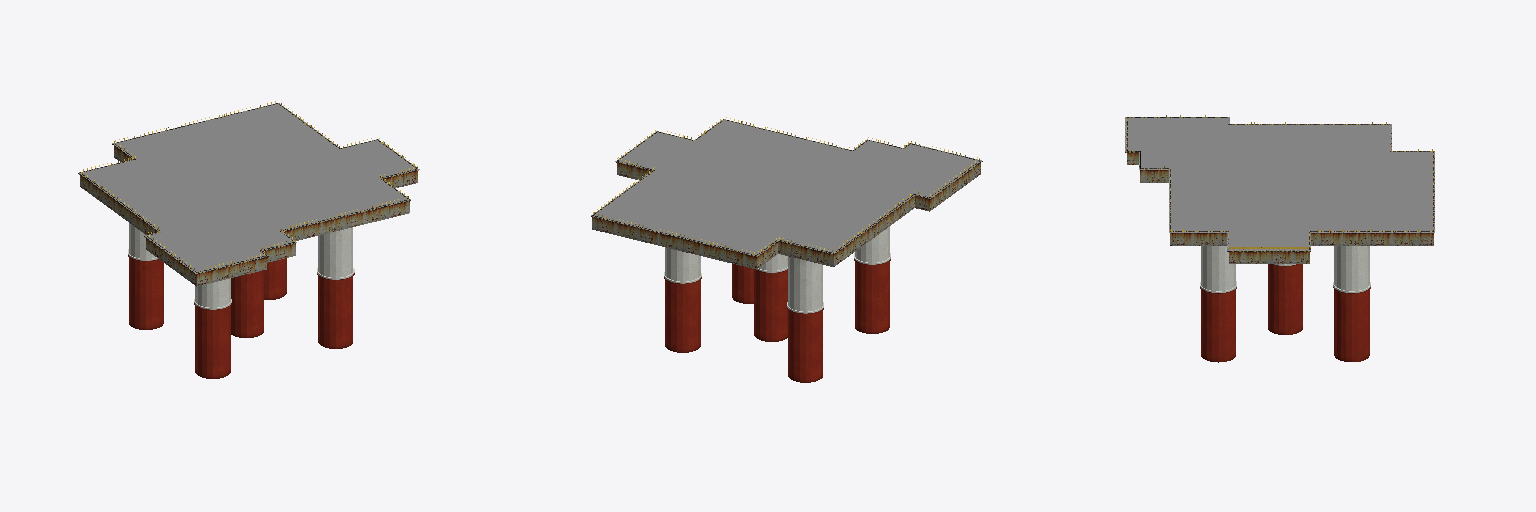
3 views of the same model, side by side, from view 1: azimuth 30°, elevation 25°; view 2: azimuth 150°, elevation 25°; view 3: azimuth 270°, elevation 25° (orthographic).
Parts seen in each view (by area): view 1: platform.obj; view 2: platform.obj; view 3: platform.obj.
Part boxes in pixels (x1,y1,x2,y2): platform.obj: (78, 101, 419, 378); platform.obj: (591, 117, 982, 382); platform.obj: (1125, 115, 1434, 362).
Bounding box in the file's own units: 145 × 75.73 × 142.
Materials: 4 (3 with a texture image).